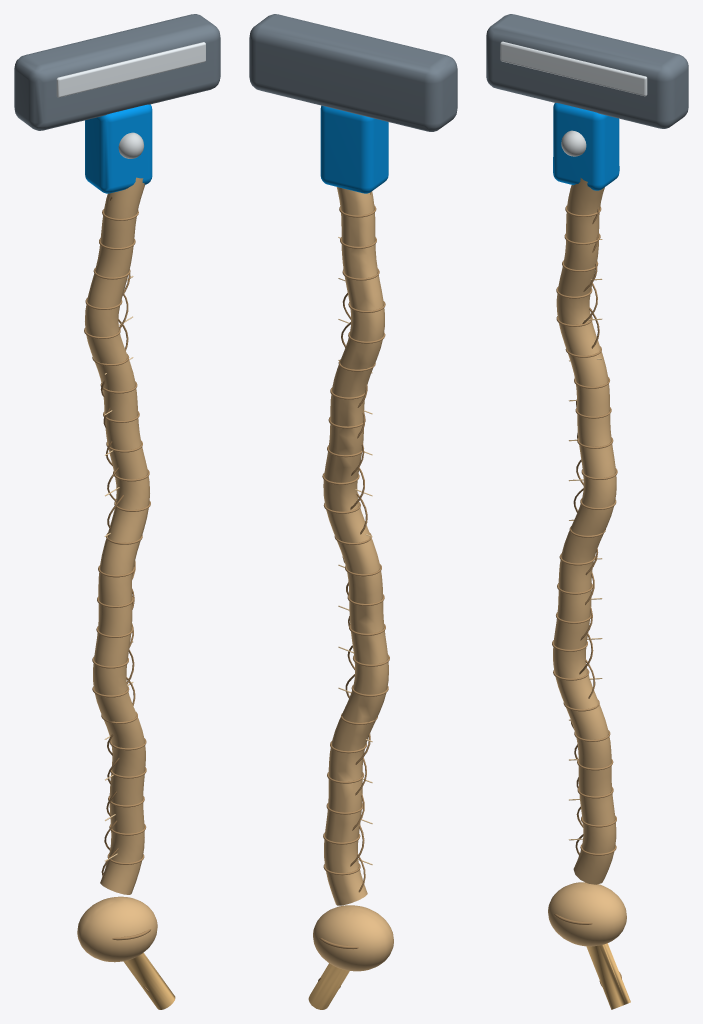
Rendered from klettertau_3D_v2.glb.
3 renders of one model, left to right at view 1: azimuth 30°, elevation 25°; view 2: azimuth 150°, elevation 25°; view 3: azimuth 330°, elevation 25°, orthographic. The views are drawn at different scales.
Parts seen in each view (by area): view 1: klettertau_3D_v2__web_tan_braided_climbing_rope_fibers, klettertau_3D_v2__web_dark_grey_wall_rope_mounting_plate, klettertau_3D_v2__web_blue_climbing_rope_bracket_collar, klettertau_3D_v2__web_pale_grey_inset_label_on_rope_mount, klettertau_3D_v2__web_darker_climbing_rope_wrap_ridges, klettertau_3D_v2__web_warm_wooden_climbing_rope_end_peg, klettertau_3D_v2__web_v2_extra_darker_helical_climbing_rope_, klettertau_3D_v2__web_small_chrome_climbing_rope_bolt; view 2: klettertau_3D_v2__web_tan_braided_climbing_rope_fibers, klettertau_3D_v2__web_dark_grey_wall_rope_mounting_plate, klettertau_3D_v2__web_blue_climbing_rope_bracket_collar, klettertau_3D_v2__web_darker_climbing_rope_wrap_ridges, klettertau_3D_v2__web_v2_extra_darker_helical_climbing_rope_, klettertau_3D_v2__web_warm_wooden_climbing_rope_end_peg; view 3: klettertau_3D_v2__web_tan_braided_climbing_rope_fibers, klettertau_3D_v2__web_dark_grey_wall_rope_mounting_plate, klettertau_3D_v2__web_blue_climbing_rope_bracket_collar, klettertau_3D_v2__web_pale_grey_inset_label_on_rope_mount, klettertau_3D_v2__web_darker_climbing_rope_wrap_ridges, klettertau_3D_v2__web_warm_wooden_climbing_rope_end_peg, klettertau_3D_v2__web_v2_extra_darker_helical_climbing_rope_, klettertau_3D_v2__web_small_chrome_climbing_rope_bolt.
Boxes of the visible parts, <box> form: klettertau_3D_v2__web_tan_braided_climbing_rope_fibers: <box>77,177,157,962</box>; klettertau_3D_v2__web_dark_grey_wall_rope_mounting_plate: <box>14,14,220,130</box>; klettertau_3D_v2__web_blue_climbing_rope_bracket_collar: <box>85,104,152,193</box>; klettertau_3D_v2__web_pale_grey_inset_label_on_rope_mount: <box>56,42,205,97</box>; klettertau_3D_v2__web_darker_climbing_rope_wrap_ridges: <box>84,209,150,991</box>; klettertau_3D_v2__web_warm_wooden_climbing_rope_end_peg: <box>123,953,175,1009</box>; klettertau_3D_v2__web_v2_extra_darker_helical_climbing_rope_: <box>100,197,135,877</box>; klettertau_3D_v2__web_small_chrome_climbing_rope_bolt: <box>118,132,143,158</box>; klettertau_3D_v2__web_tan_braided_climbing_rope_fibers: <box>313,187,393,971</box>; klettertau_3D_v2__web_dark_grey_wall_rope_mounting_plate: <box>249,14,457,131</box>; klettertau_3D_v2__web_blue_climbing_rope_bracket_collar: <box>320,105,388,193</box>; klettertau_3D_v2__web_darker_climbing_rope_wrap_ridges: <box>318,205,389,988</box>; klettertau_3D_v2__web_v2_extra_darker_helical_climbing_rope_: <box>341,192,370,892</box>; klettertau_3D_v2__web_warm_wooden_climbing_rope_end_peg: <box>308,963,349,1009</box>; klettertau_3D_v2__web_tan_braided_climbing_rope_fibers: <box>548,178,626,946</box>; klettertau_3D_v2__web_dark_grey_wall_rope_mounting_plate: <box>486,14,688,128</box>; klettertau_3D_v2__web_blue_climbing_rope_bracket_collar: <box>553,103,619,190</box>; klettertau_3D_v2__web_pale_grey_inset_label_on_rope_mount: <box>500,41,647,96</box>; klettertau_3D_v2__web_darker_climbing_rope_wrap_ridges: <box>552,205,621,986</box>; klettertau_3D_v2__web_warm_wooden_climbing_rope_end_peg: <box>586,943,630,1009</box>; klettertau_3D_v2__web_v2_extra_darker_helical_climbing_rope_: <box>570,207,599,855</box>; klettertau_3D_v2__web_small_chrome_climbing_rope_bolt: <box>561,130,586,156</box>.
Bounding box in the file's own units: 0.55 × 2.68 × 0.191.
